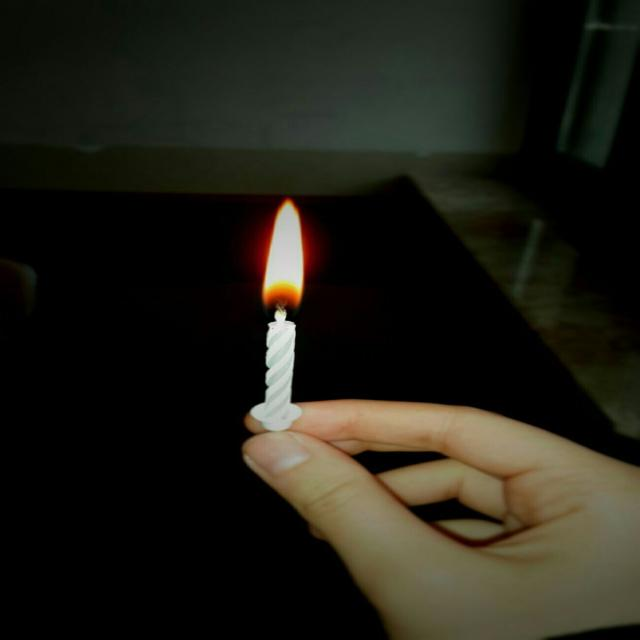fire: (261, 198, 307, 309)
